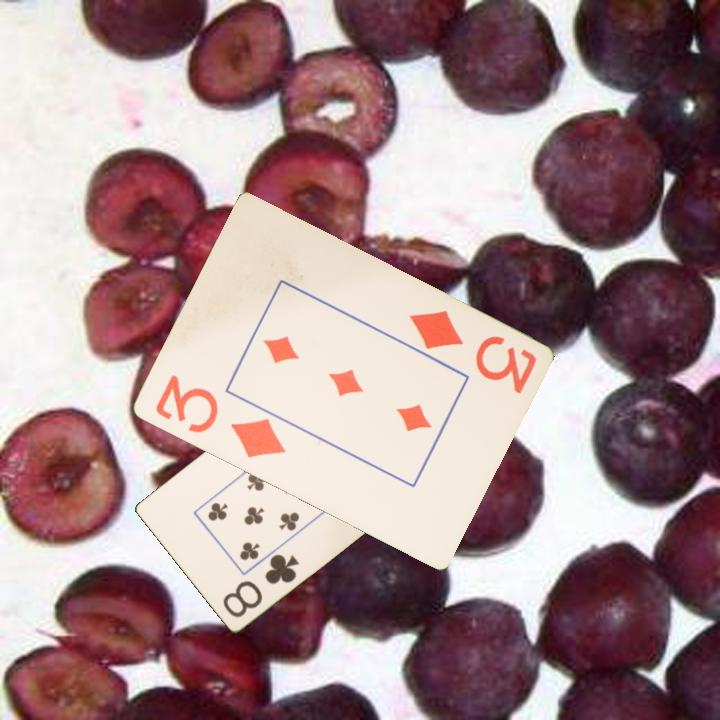3d: (151, 371, 288, 462), (405, 306, 539, 397)
8c: (219, 550, 302, 620)
